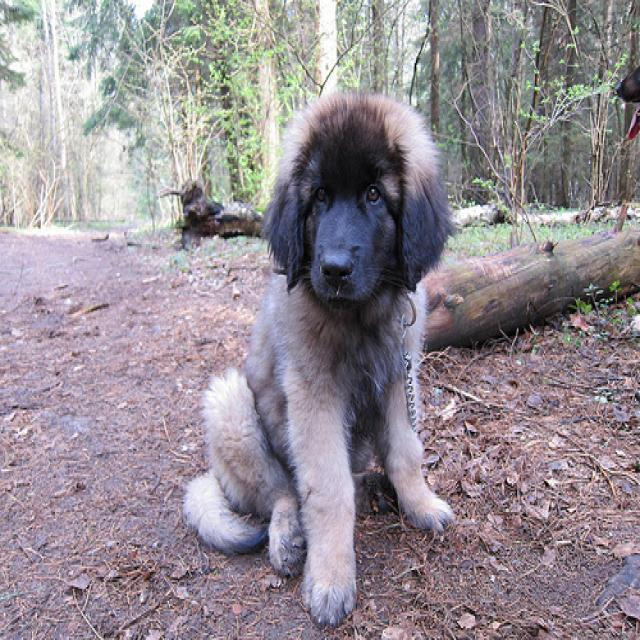dog-leonberger: (172, 82, 462, 635)
